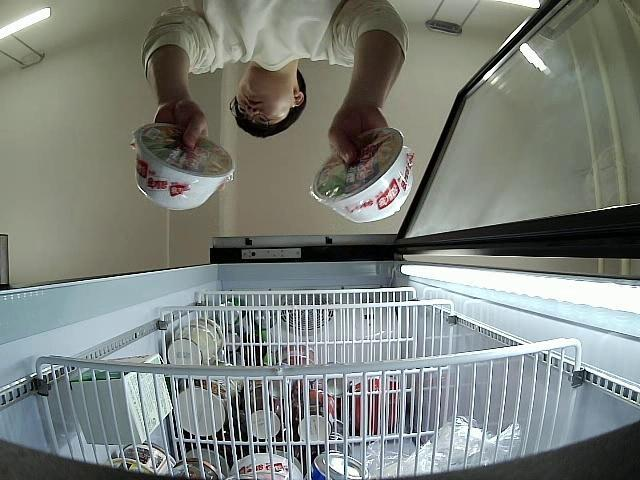09_yukGaeJang: (310, 128, 413, 223), (133, 125, 236, 210)
